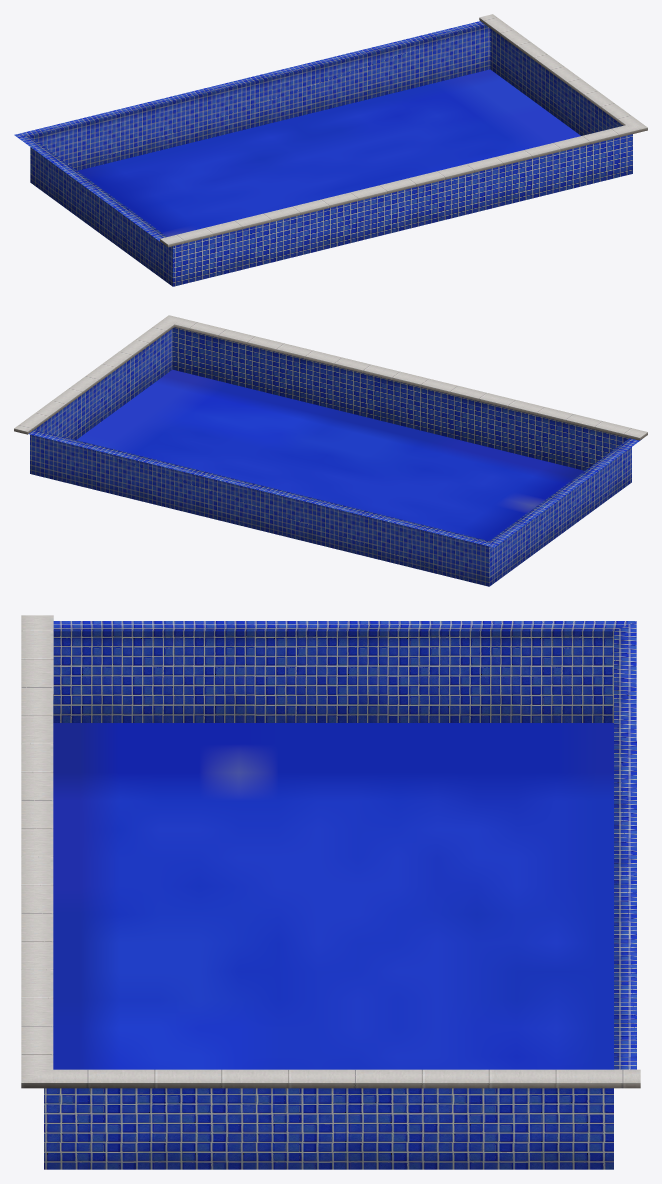
The model's file is house_0130002_sc1i.FBX.
3 renders of one model, top to bottom at view 1: azimuth 30°, elevation 25°; view 2: azimuth 150°, elevation 25°; view 3: azimuth 270°, elevation 25°, orthographic. The views are drawn at different scales.
Visible parts, largest first — view 1: house_0130002_sc1; view 2: house_0130002_sc1; view 3: house_0130002_sc1.
Part boxes in pixels (box(x1,y1,x2,y2)): house_0130002_sc1: box(14, 14, 647, 286); house_0130002_sc1: box(14, 315, 647, 586); house_0130002_sc1: box(21, 615, 640, 1169).
Size of the model in its own units: 1715 by 167 by 960.
Materials: 1 (1 with a texture image).
